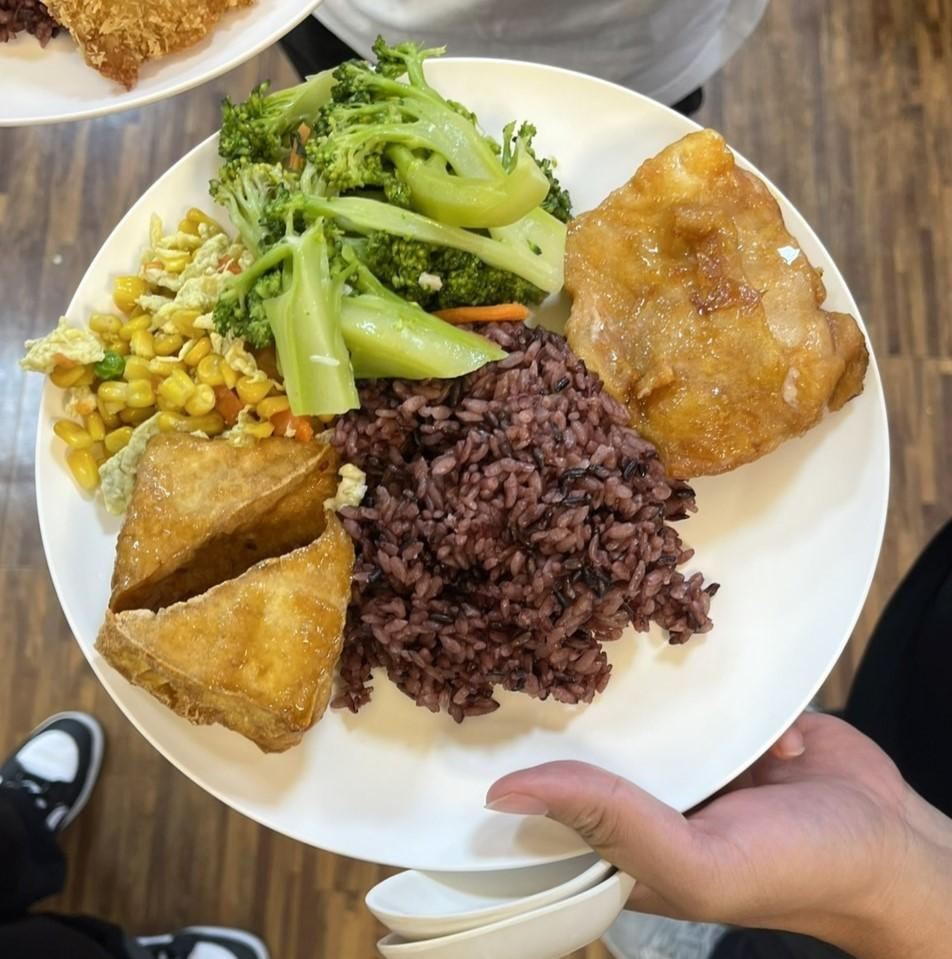big fried chicken leg: (20, 50, 923, 888)
braised fish: (339, 332, 694, 720)
braised fish fillet: (210, 54, 563, 402), (104, 414, 360, 754), (42, 218, 307, 456)
braised pork: (556, 136, 867, 474)
